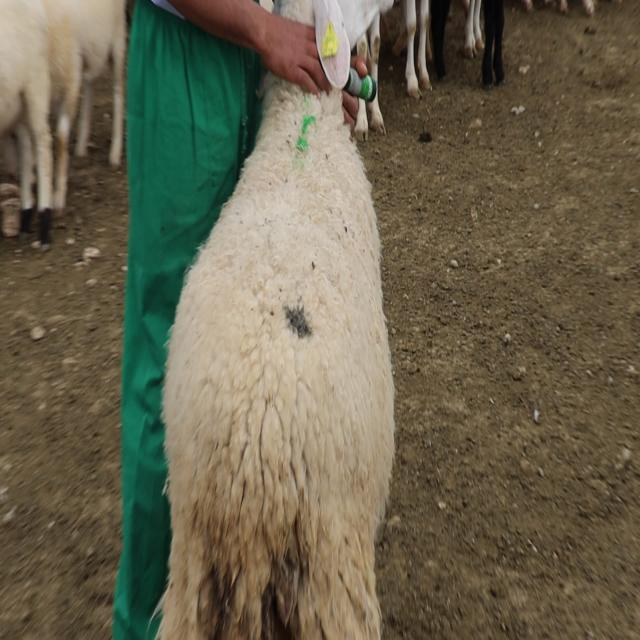Score_5: (156, 76, 394, 639)
